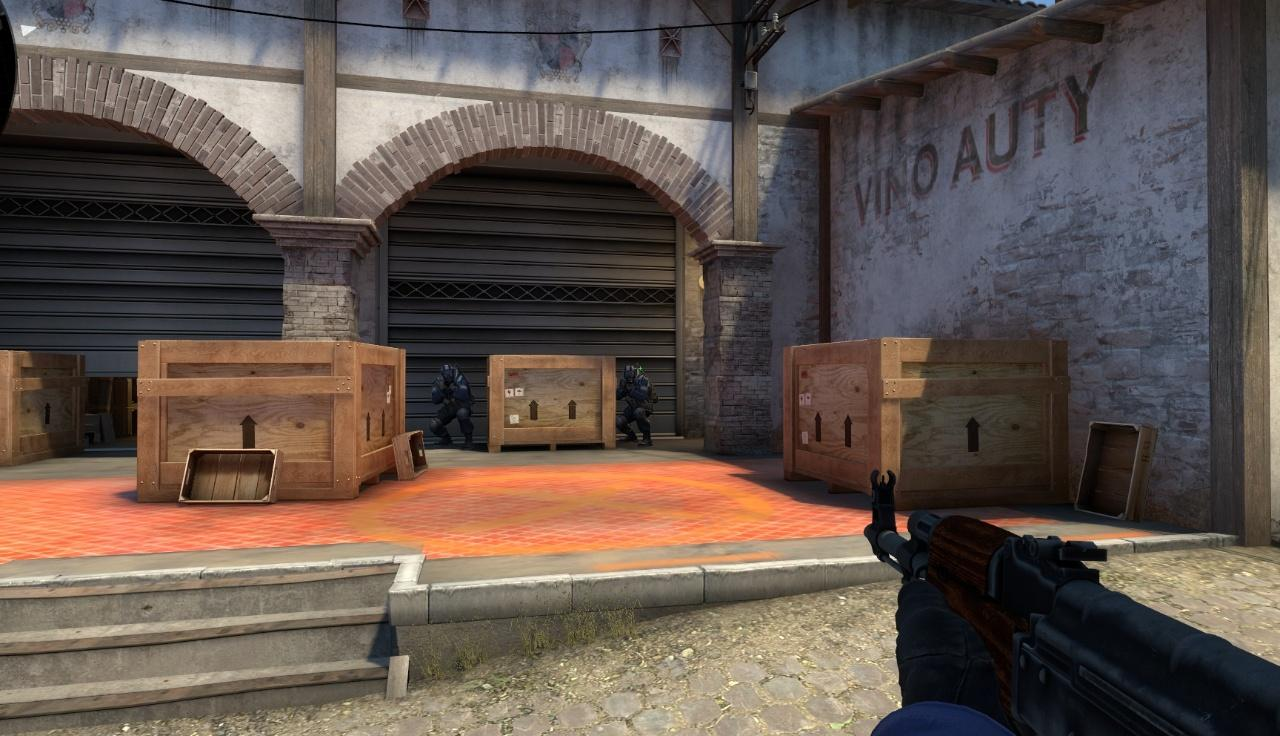ct: (432, 363, 473, 448), (614, 364, 656, 445)
cthead: (621, 365, 639, 385), (440, 364, 457, 384)
rifle: (857, 466, 1280, 736)
